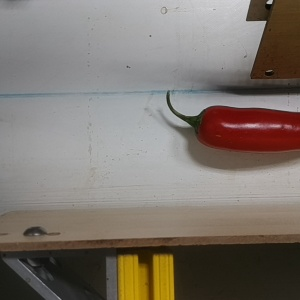Cut Point: (186, 102, 216, 146)
